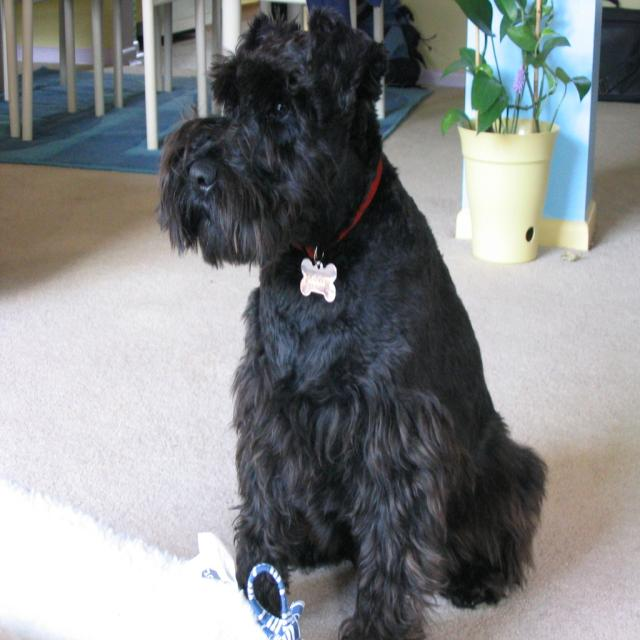Dog: (153, 3, 548, 639)
